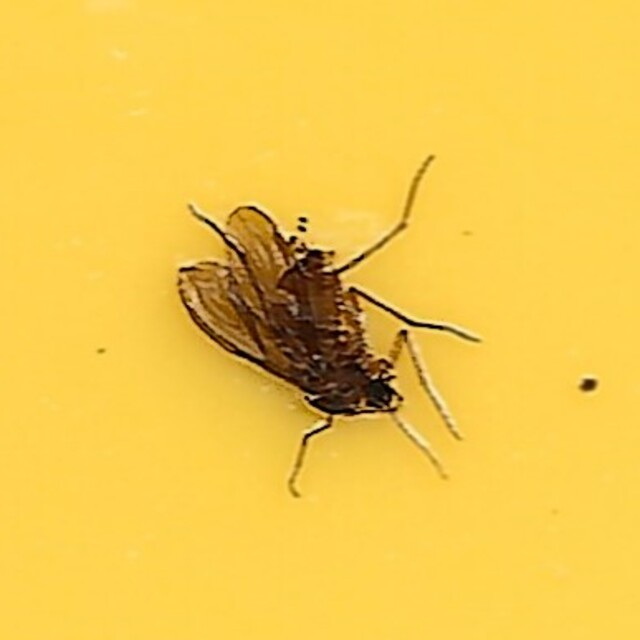Nematocera: (165, 156, 475, 484)
